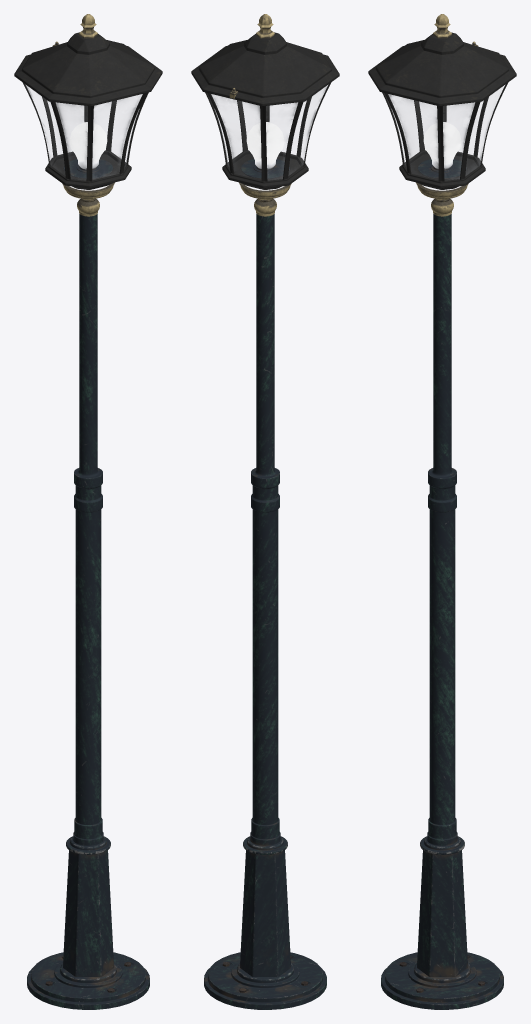
File: street_lamp.glb
3 views of the same model, side by side, from view 1: azimuth 30°, elevation 25°; view 2: azimuth 150°, elevation 25°; view 3: azimuth 330°, elevation 25° (orthographic).
Parts seen in each view (by area): view 1: StrLmp7_Post, StrLmp7_Lamp_1.4, StrLmp7_Lamp_1.3, StrLmp7_Lamp_1.2, StrLmp7_Lamp_1.1, StrLmp7_Lamp_Bulb, StrLmp7_Stand, StrLmp7_Lamp_socket; view 2: StrLmp7_Post, StrLmp7_Lamp_1.4, StrLmp7_Lamp_1.2, StrLmp7_Lamp_1.3, StrLmp7_Lamp_1.1, StrLmp7_Lamp_Bulb, StrLmp7_Stand, StrLmp7_Lamp_socket; view 3: StrLmp7_Post, StrLmp7_Lamp_1.4, StrLmp7_Lamp_1.3, StrLmp7_Lamp_1.2, StrLmp7_Lamp_1.1, StrLmp7_Lamp_Bulb, StrLmp7_Stand, StrLmp7_Lamp_socket.
Part boxes in pixels (x1,y1,x2,y2): StrLmp7_Post: [27, 214, 149, 1009]; StrLmp7_Lamp_1.4: [14, 14, 162, 106]; StrLmp7_Lamp_1.3: [26, 85, 142, 180]; StrLmp7_Lamp_1.2: [22, 82, 148, 181]; StrLmp7_Lamp_1.1: [45, 150, 131, 189]; StrLmp7_Lamp_Bulb: [69, 122, 107, 169]; StrLmp7_Stand: [62, 182, 114, 216]; StrLmp7_Lamp_socket: [63, 159, 113, 178]; StrLmp7_Post: [204, 214, 326, 1009]; StrLmp7_Lamp_1.4: [191, 14, 339, 106]; StrLmp7_Lamp_1.2: [205, 82, 331, 181]; StrLmp7_Lamp_1.3: [211, 85, 327, 180]; StrLmp7_Lamp_1.1: [222, 150, 308, 189]; StrLmp7_Lamp_Bulb: [246, 122, 284, 169]; StrLmp7_Stand: [239, 182, 291, 216]; StrLmp7_Lamp_socket: [240, 159, 290, 178]; StrLmp7_Post: [381, 214, 503, 1009]; StrLmp7_Lamp_1.4: [368, 14, 516, 106]; StrLmp7_Lamp_1.3: [387, 86, 504, 179]; StrLmp7_Lamp_1.2: [382, 82, 508, 181]; StrLmp7_Lamp_1.1: [399, 150, 485, 189]; StrLmp7_Lamp_Bulb: [423, 122, 461, 169]; StrLmp7_Stand: [416, 182, 468, 216]; StrLmp7_Lamp_socket: [417, 159, 467, 178].
Size of the model in its own units: 0.286 by 2.32 by 0.2879.
1 material, 1 textured.
